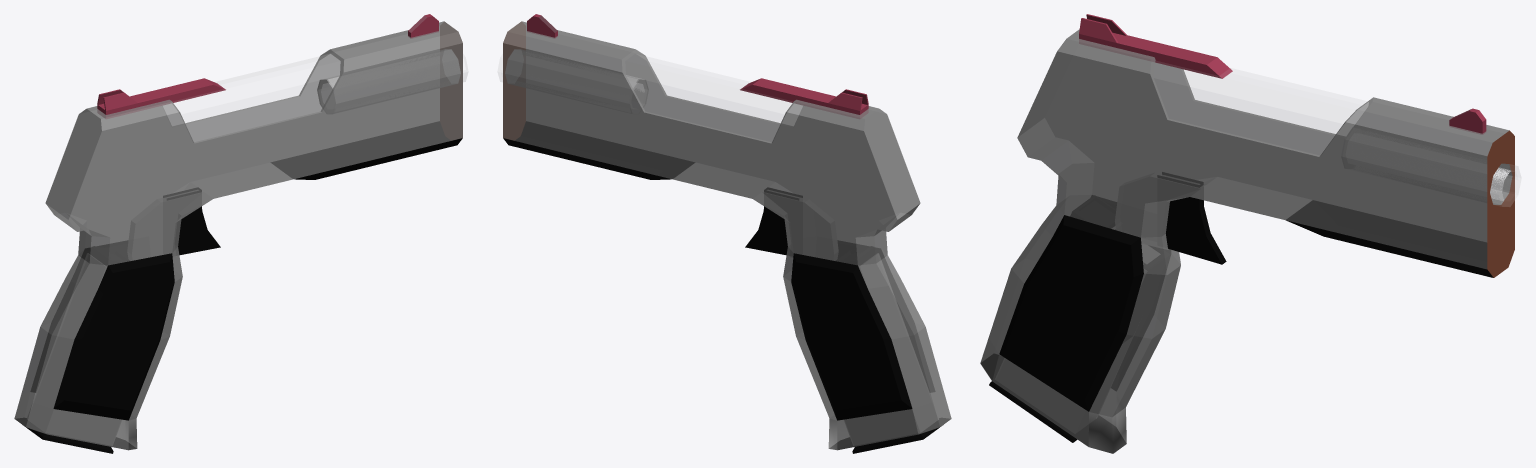
Rendered from pistol.fbx.
The picture shows the model from 3 angles, left to right: view 1: azimuth 30°, elevation 25°; view 2: azimuth 150°, elevation 25°; view 3: azimuth 330°, elevation 25°; orthographic projection. The views are drawn at different scales.
Parts seen in each view (by area): view 1: pistal; view 2: pistal; view 3: pistal.
Boxes of the visible parts, bbox=[...] form: pistal: bbox=[14, 14, 467, 453]; pistal: bbox=[498, 14, 951, 453]; pistal: bbox=[980, 14, 1520, 453].
Size of the model in its own units: 52.91 by 41.05 by 6.01.
